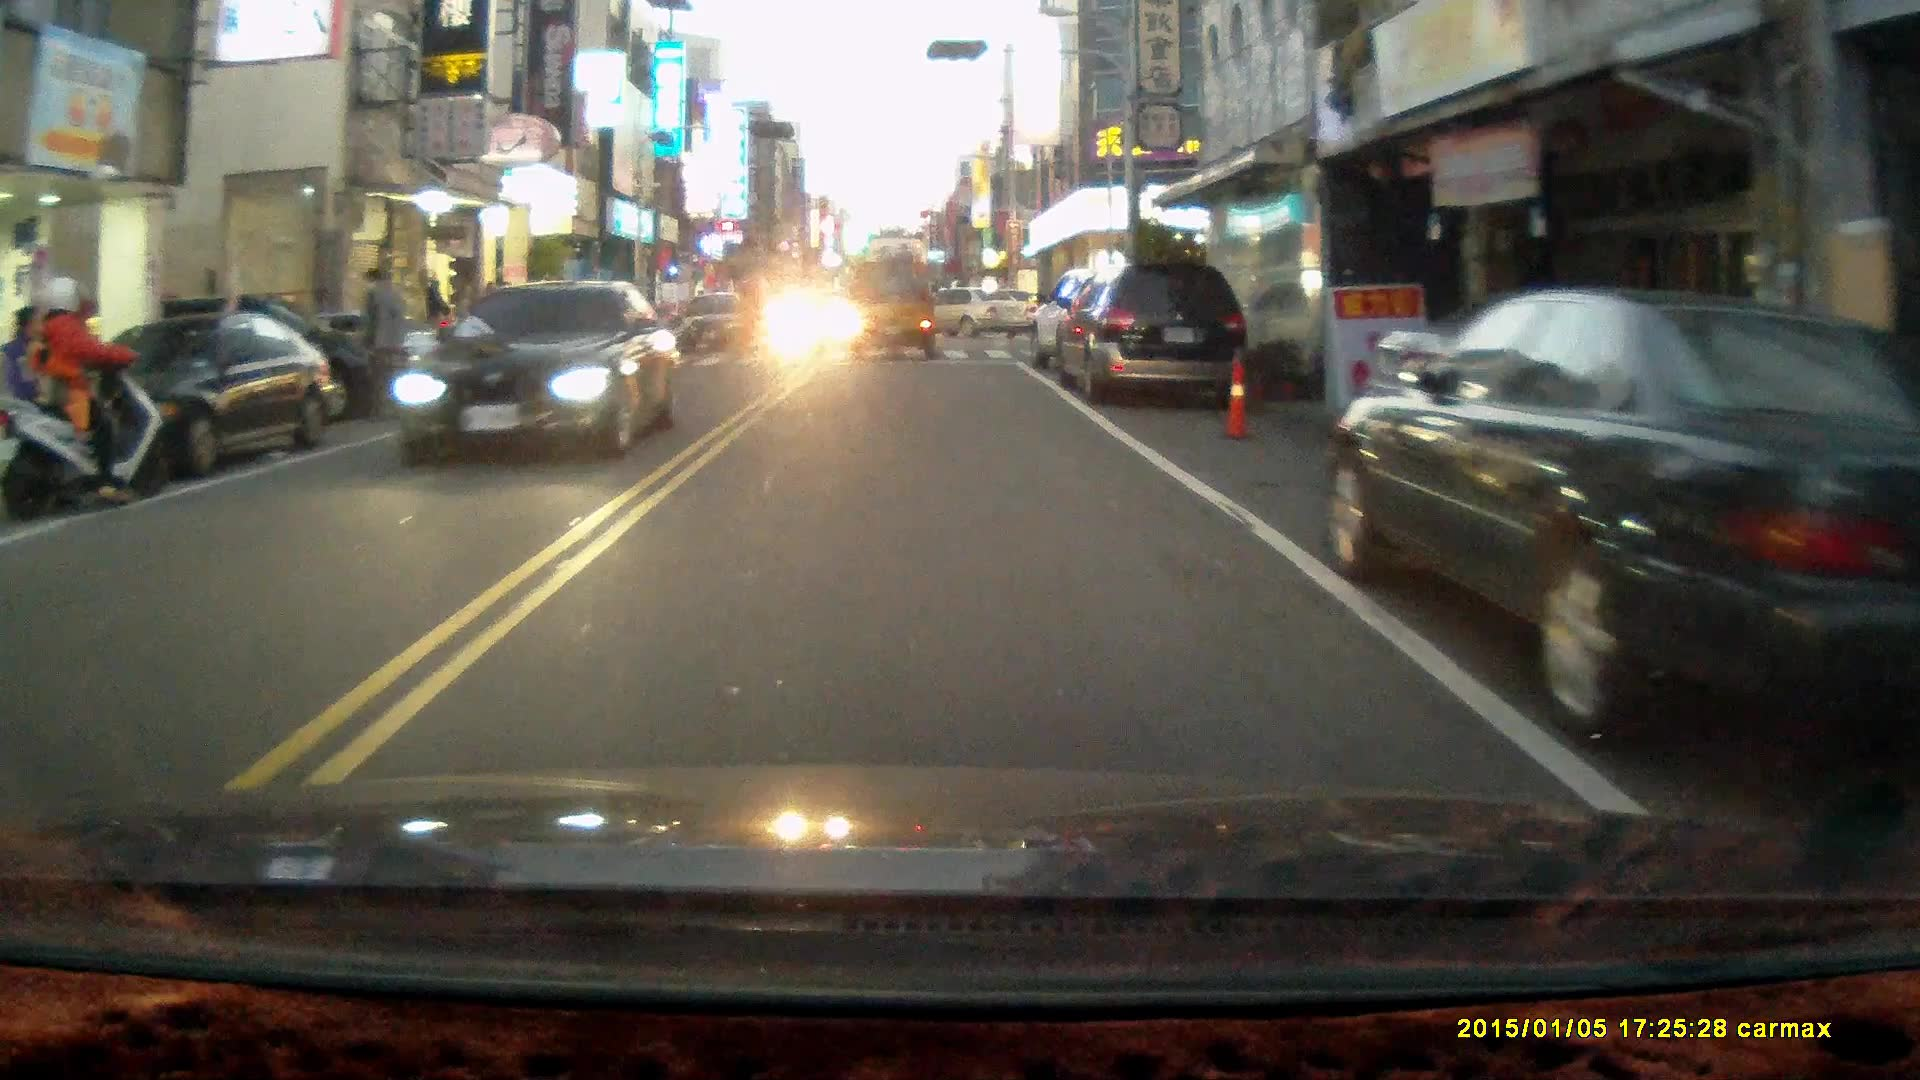pedestrian: (357, 265, 407, 419)
rider: (0, 273, 174, 523)
vehicle: (1329, 286, 1911, 787), (392, 278, 684, 471), (49, 313, 322, 483), (1049, 257, 1250, 405), (847, 257, 939, 359), (891, 284, 1031, 342), (680, 295, 756, 353)
